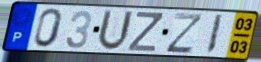0: (33, 7, 64, 49)
3: (65, 9, 93, 49)
I: (204, 14, 224, 56)
U: (95, 8, 136, 52)
Z: (164, 12, 205, 55), (126, 10, 165, 53)
